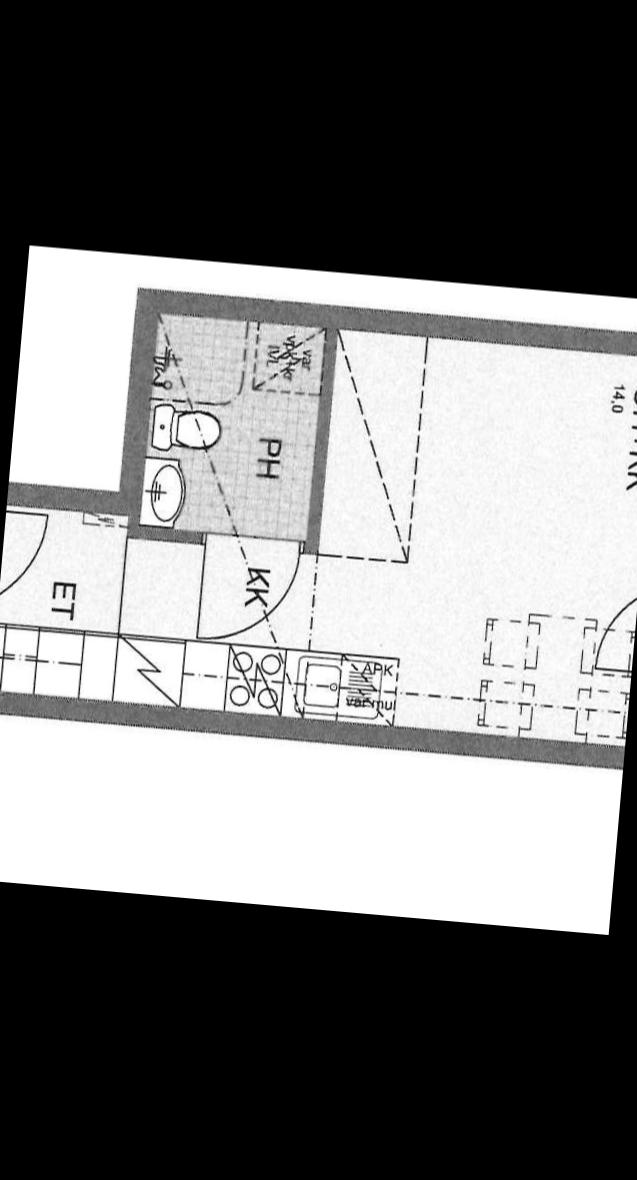door: (186, 524, 303, 654), (581, 564, 637, 689), (0, 506, 51, 621)
